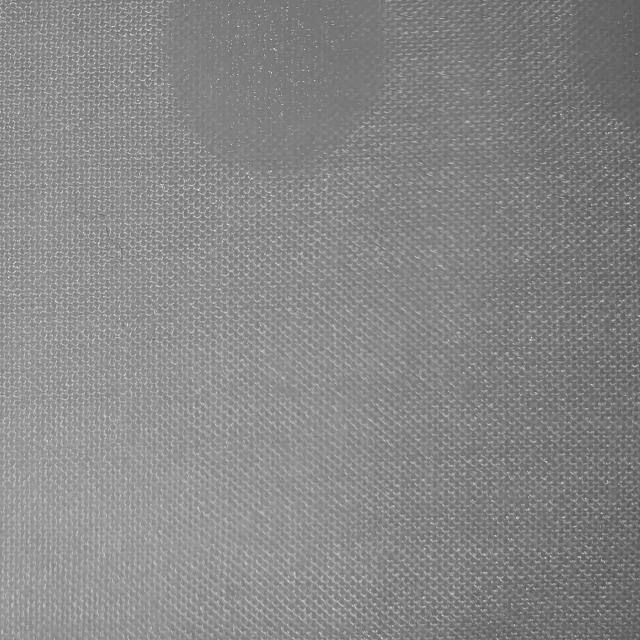Stain: (166, 0, 385, 171)
